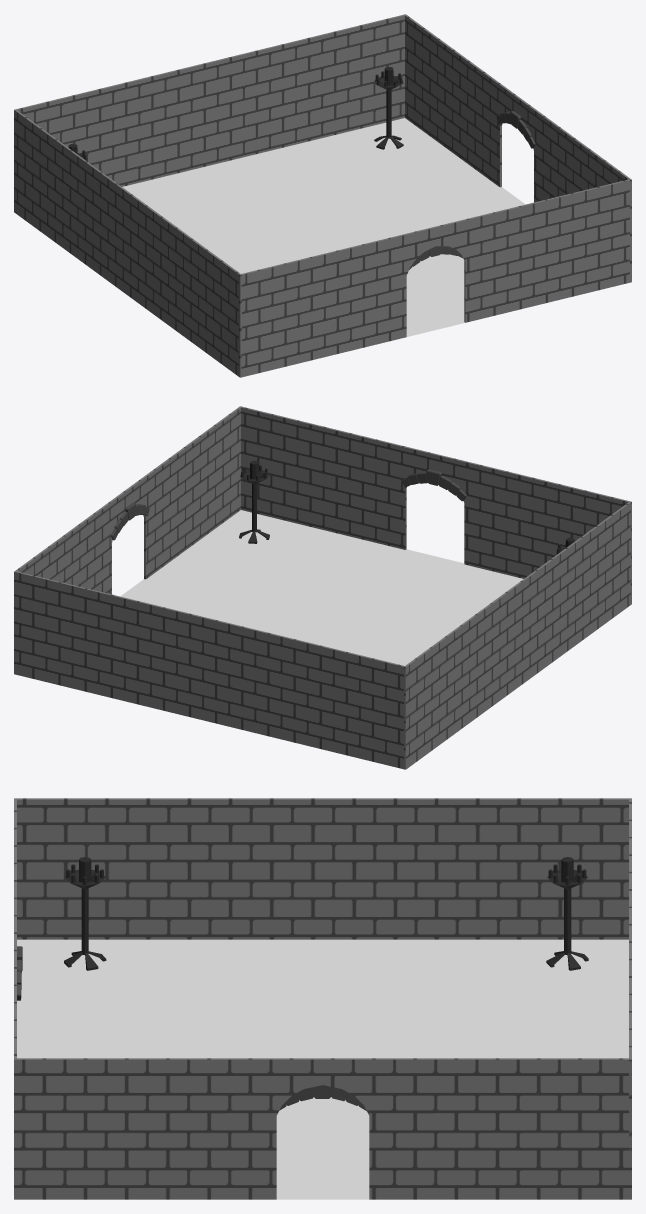
File: Crypts Room 3 Mesh.fbx
3 views of the same model, one above another, from view 1: azimuth 30°, elevation 25°; view 2: azimuth 150°, elevation 25°; view 3: azimuth 270°, elevation 25° (orthographic). The views are drawn at different scales.
Visible parts, largest first — view 1: Room 3 Mesh; view 2: Room 3 Mesh; view 3: Room 3 Mesh.
Part boxes in pixels (x1,y1,x2,y2): Room 3 Mesh: (14, 14, 631, 377); Room 3 Mesh: (14, 406, 631, 769); Room 3 Mesh: (14, 798, 631, 1199).
Bounding box in the file's own units: 2000 × 500 × 2000.
